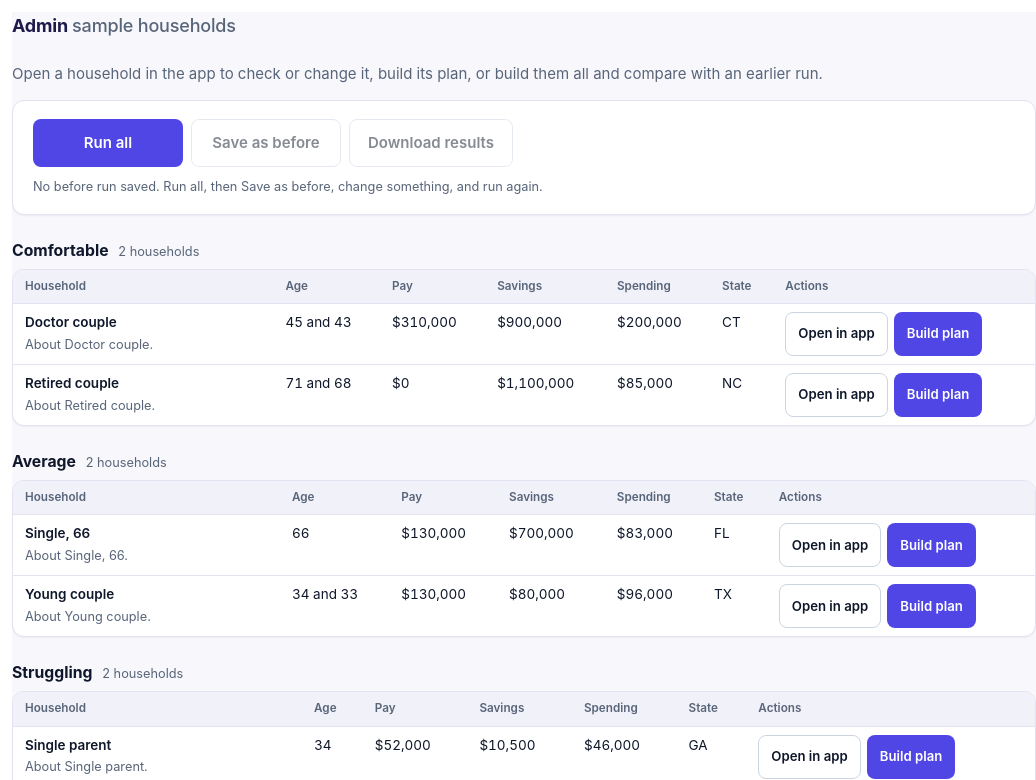
Test: admin screen › Run all builds every plan, at most 3 at once, and fills the table
The width and height of the screenshot is (1036, 780).
Click the button "Run all" at (108, 143), box x1=33 y1=118 x2=183 y2=167
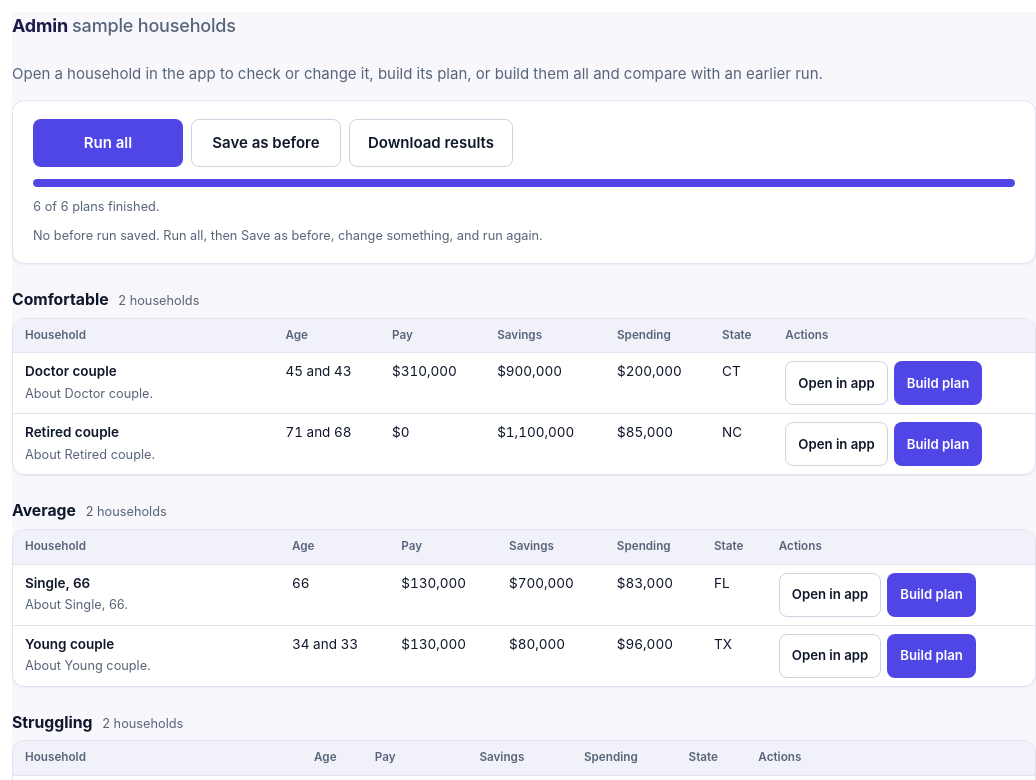
Expected: the button "Download results" is enabled, x1=349 y1=118 x2=513 y2=167
